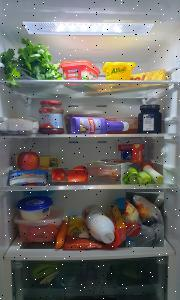Mantequilla: (61, 60, 102, 90)
Manzana: (16, 150, 40, 174)
Queso: (127, 192, 164, 247)
Tomate: (64, 170, 88, 182), (52, 168, 68, 182)
Zanahoria: (55, 218, 70, 251)
